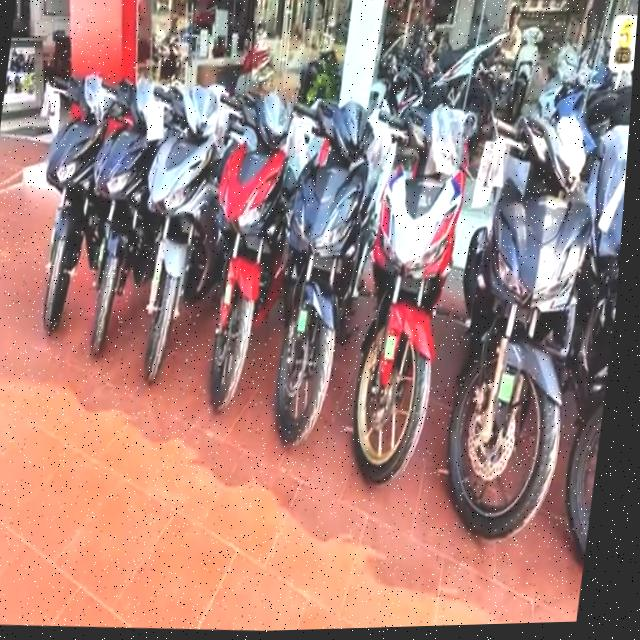motorcycle: (439, 97, 625, 550), (339, 93, 488, 489), (257, 85, 391, 448), (19, 56, 169, 372), (187, 78, 305, 424), (122, 50, 227, 404)
